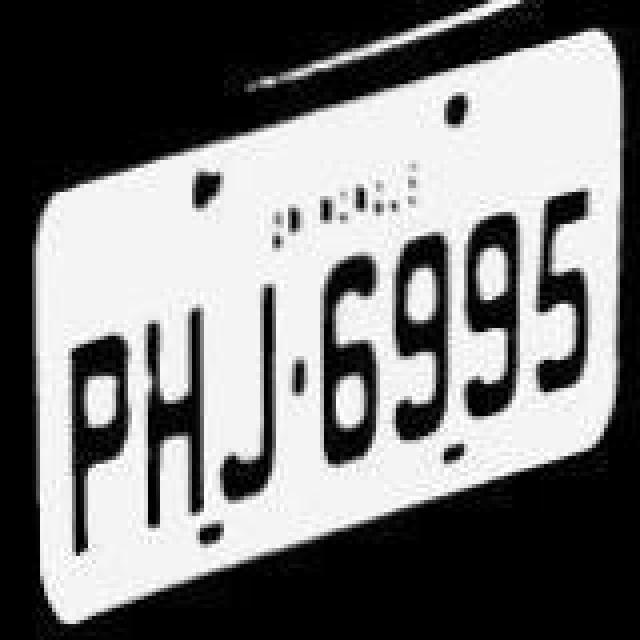5: (524, 190, 600, 394)
6: (308, 260, 384, 472)
9: (384, 234, 460, 434), (458, 212, 530, 416)
H: (136, 306, 212, 530)
J: (210, 284, 290, 512)
P: (60, 336, 136, 560)
